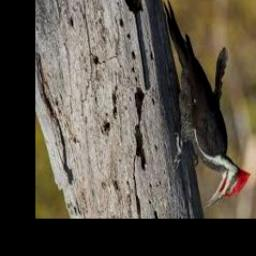Woodpecker: (162, 0, 251, 210)
